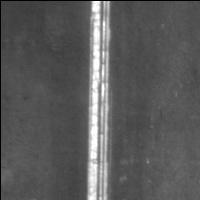scratches: (84, 1, 116, 200)
